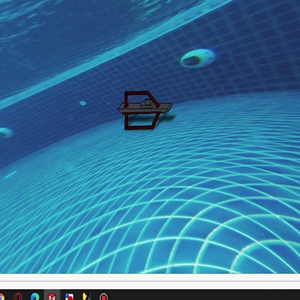submarine: (114, 86, 174, 128)
